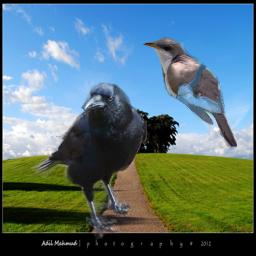Crow: (26, 76, 147, 241)
Cuckoo: (141, 35, 237, 151)
